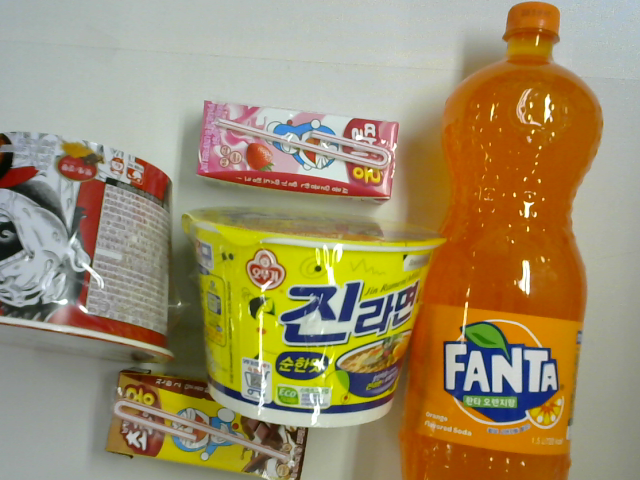Choco_E_Mong: (95, 380, 312, 480)
Hejangpul: (1, 124, 193, 354)
Hwanta_Orange_1.5L: (410, 26, 599, 480)
Jinlamyeon_Mild_Taste_Large_Cup: (186, 204, 431, 417)
Strawberry_E_Mong: (173, 106, 419, 194)
